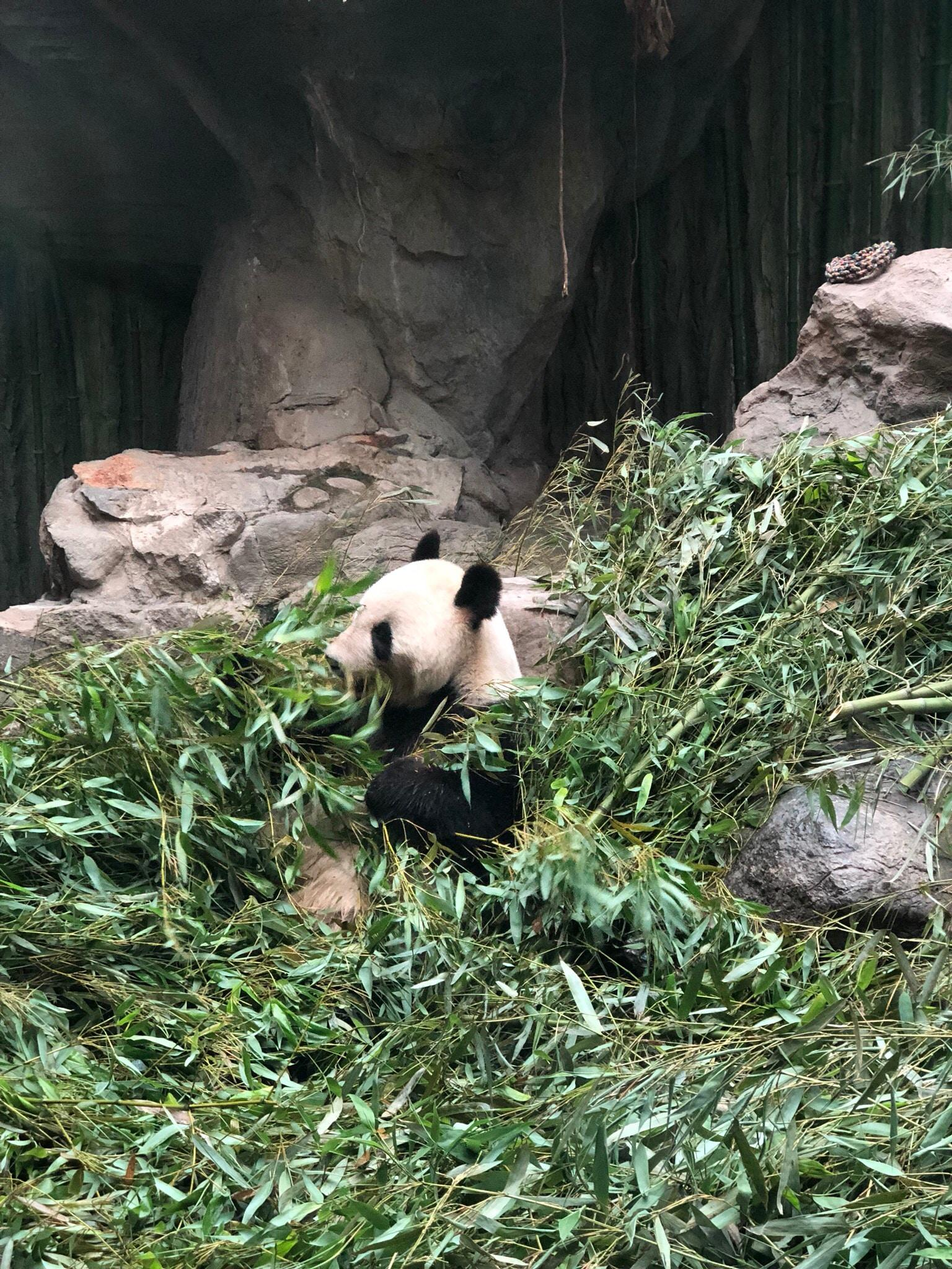panda: (286, 524, 555, 883)
